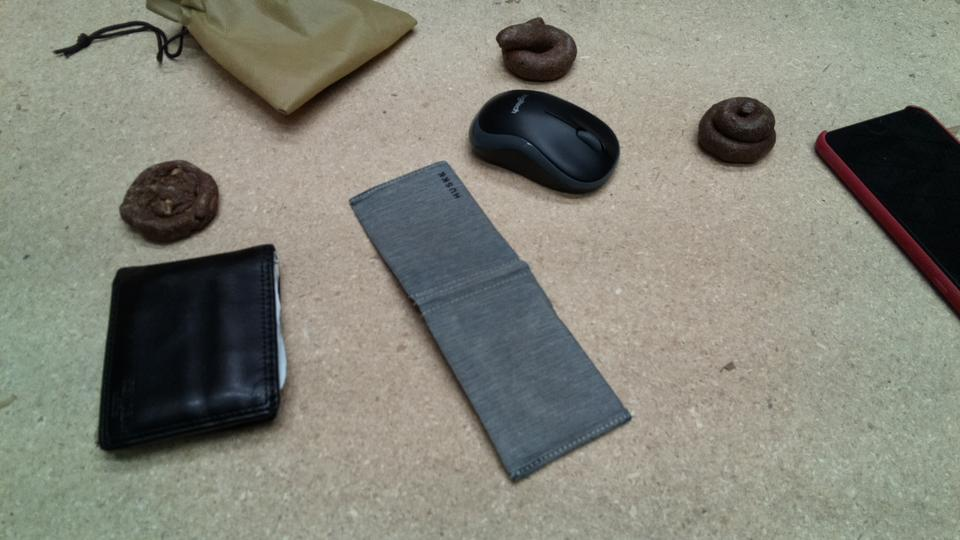poop: (117, 156, 223, 247), (695, 94, 781, 167), (495, 15, 579, 85)
